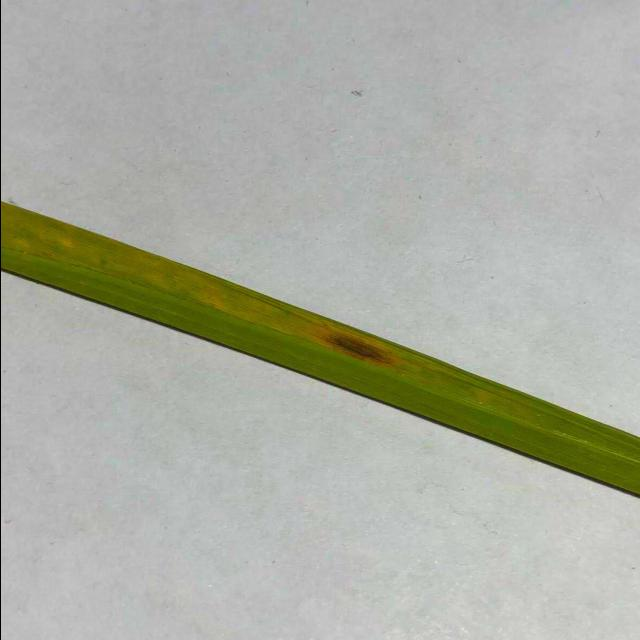Brown spot: (0, 194, 640, 525)
